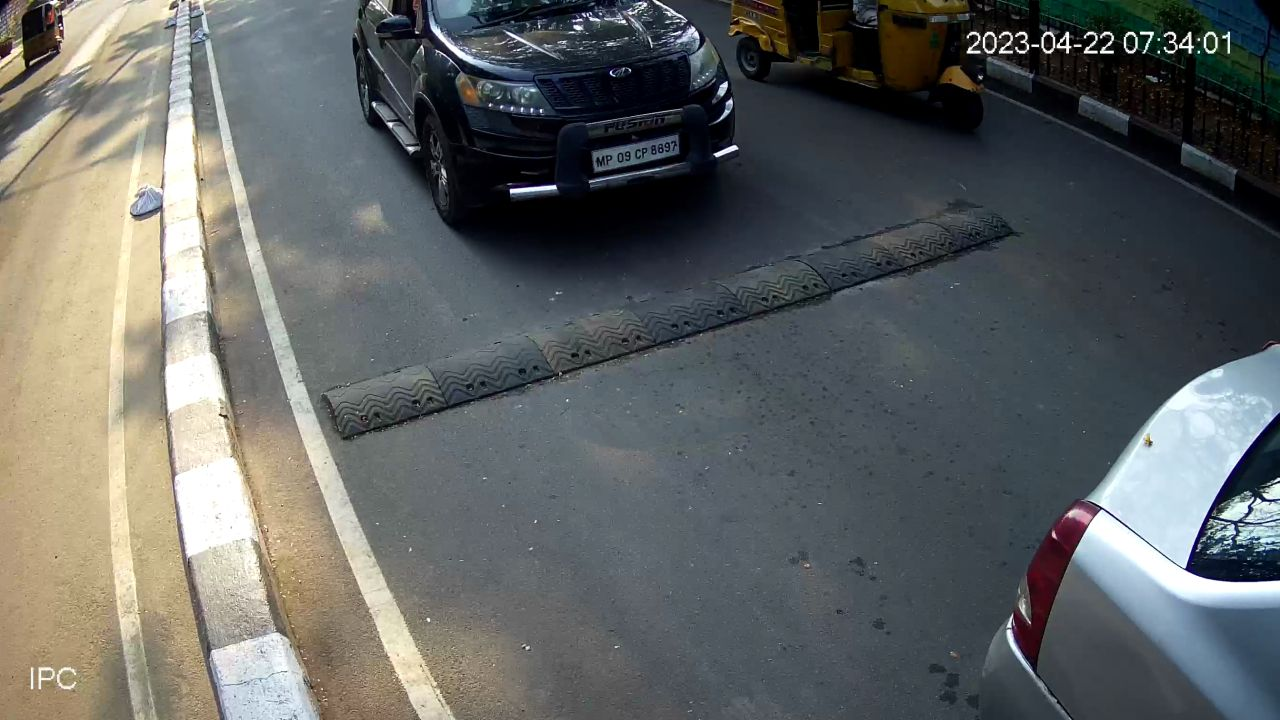license_plate: (588, 126, 685, 181)
